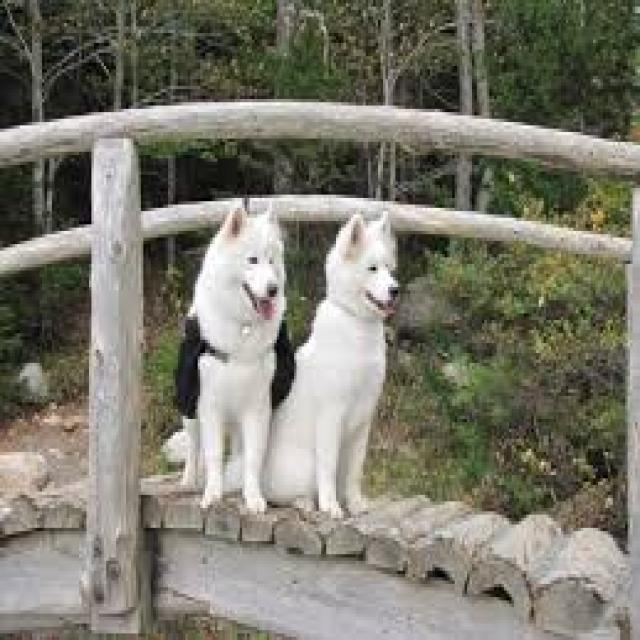dogs: (257, 207, 403, 524), (160, 200, 287, 516)
